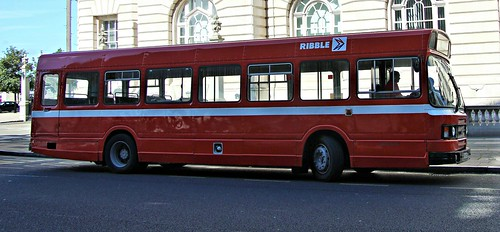bus: (28, 27, 470, 181)
